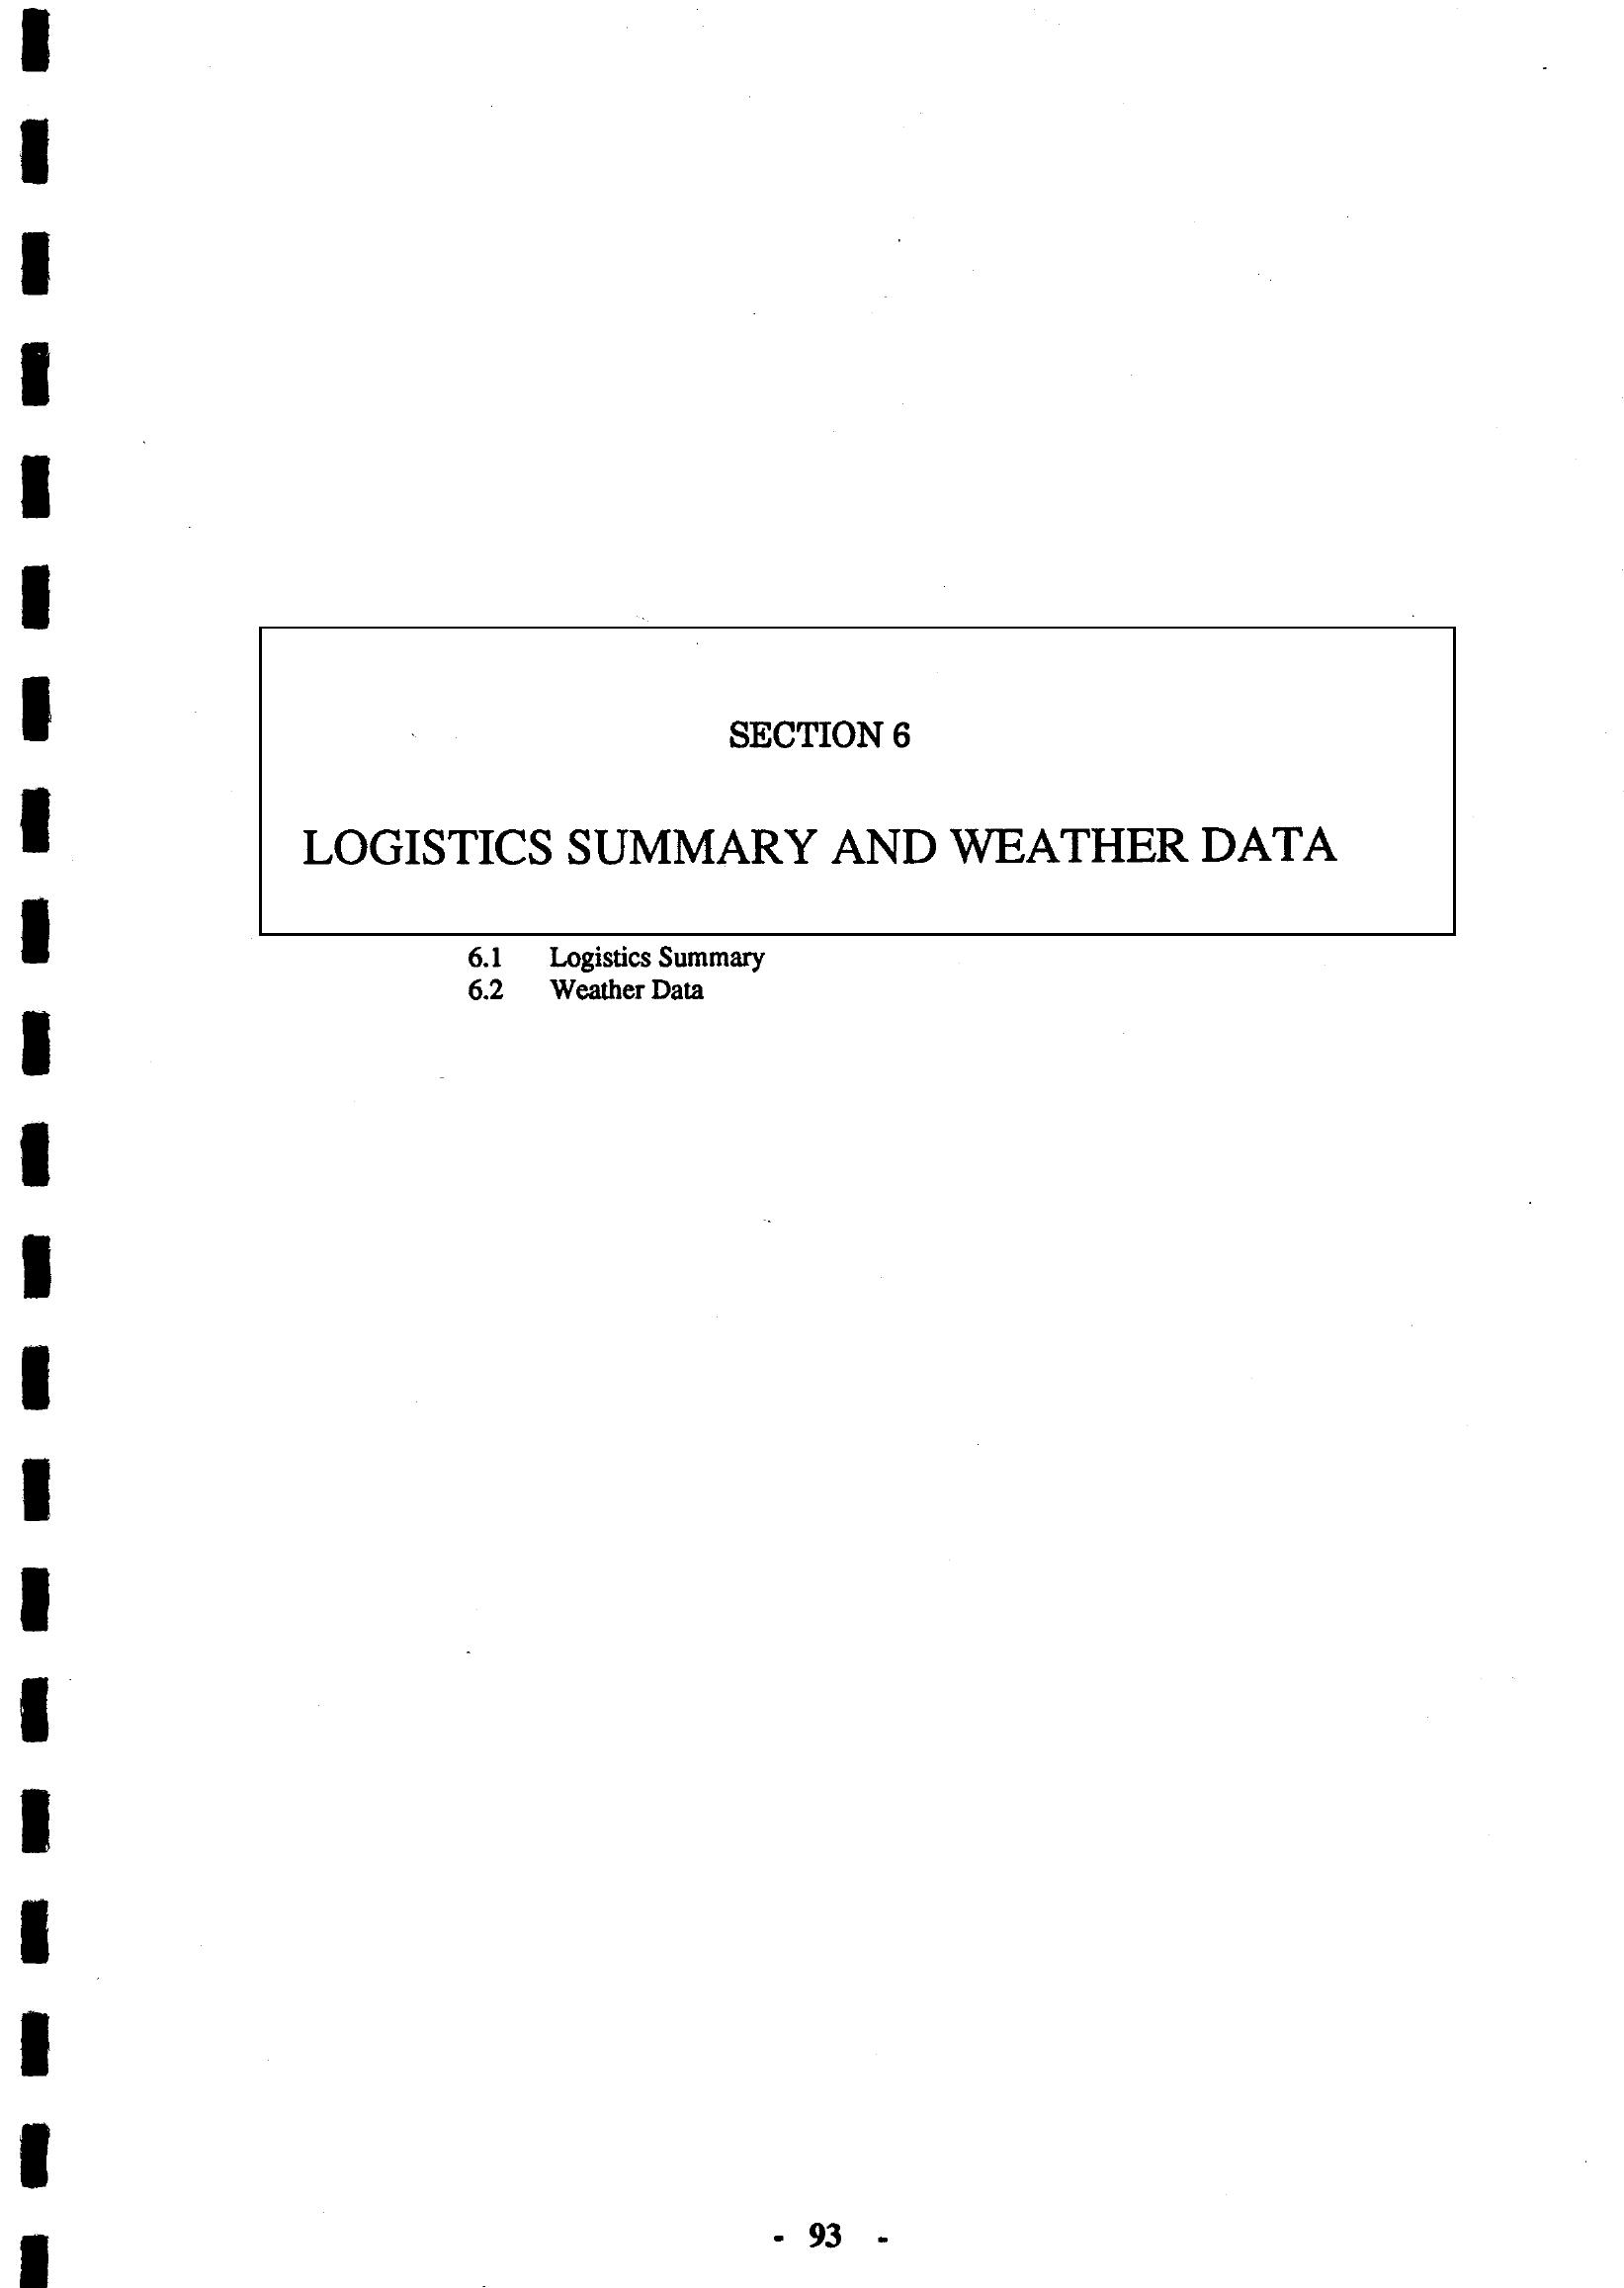text: (236, 590, 1508, 1053)
